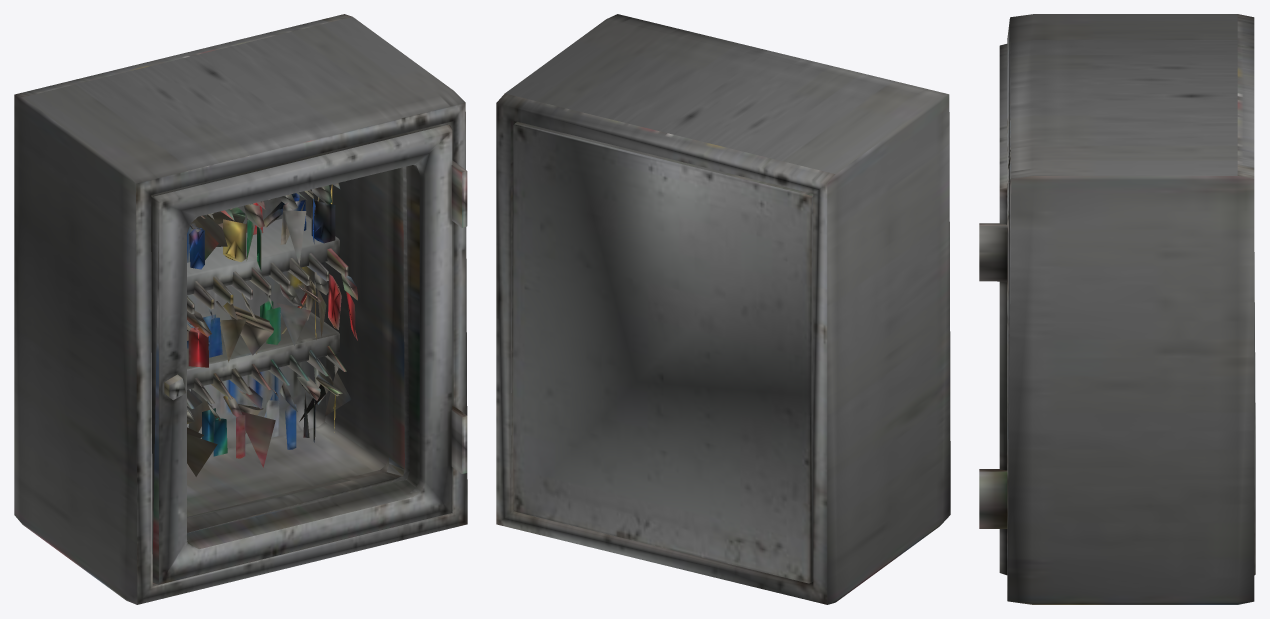
File: p7-key-cabinet-t25.glb
The picture shows the model from 3 angles, left to right: view 1: azimuth 30°, elevation 25°; view 2: azimuth 150°, elevation 25°; view 3: azimuth 270°, elevation 25°; orthographic projection.
Parts seen in each view (by area): view 1: p7-key-cabinet-t25; view 2: p7-key-cabinet-t25; view 3: p7-key-cabinet-t25.
Part boxes in pixels (x1,y1,x2,y2): p7-key-cabinet-t25: [14, 14, 467, 604]; p7-key-cabinet-t25: [496, 14, 950, 604]; p7-key-cabinet-t25: [979, 14, 1255, 604].
Size of the model in its own units: 0.45 by 0.55 by 0.321.
Materials: 1 (1 with a texture image).
